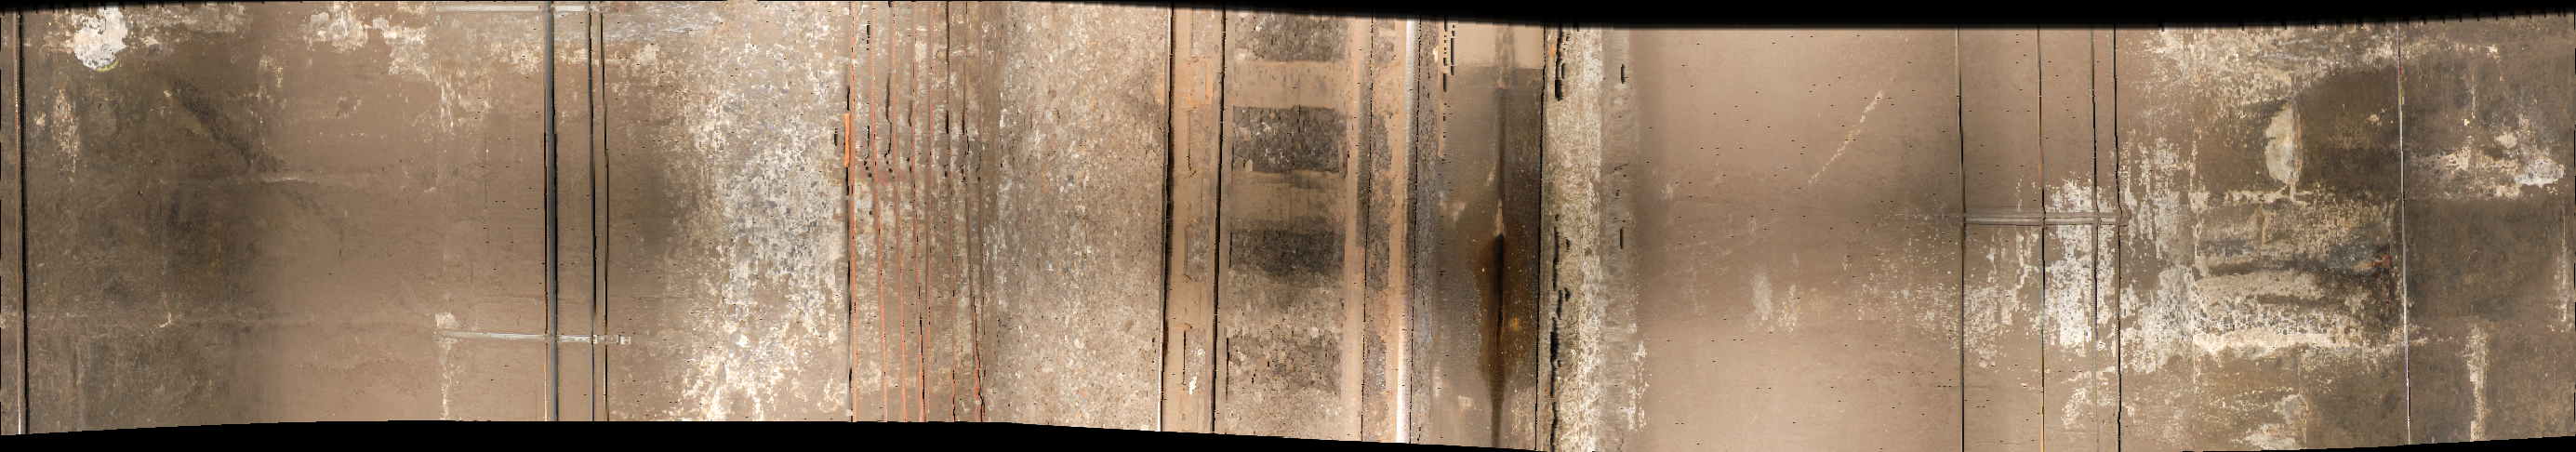pipes: (1947, 18, 2132, 452), (836, 5, 1000, 452), (532, 2, 616, 439), (2376, 16, 2425, 452)
tracks: (1160, 2, 1549, 452)
